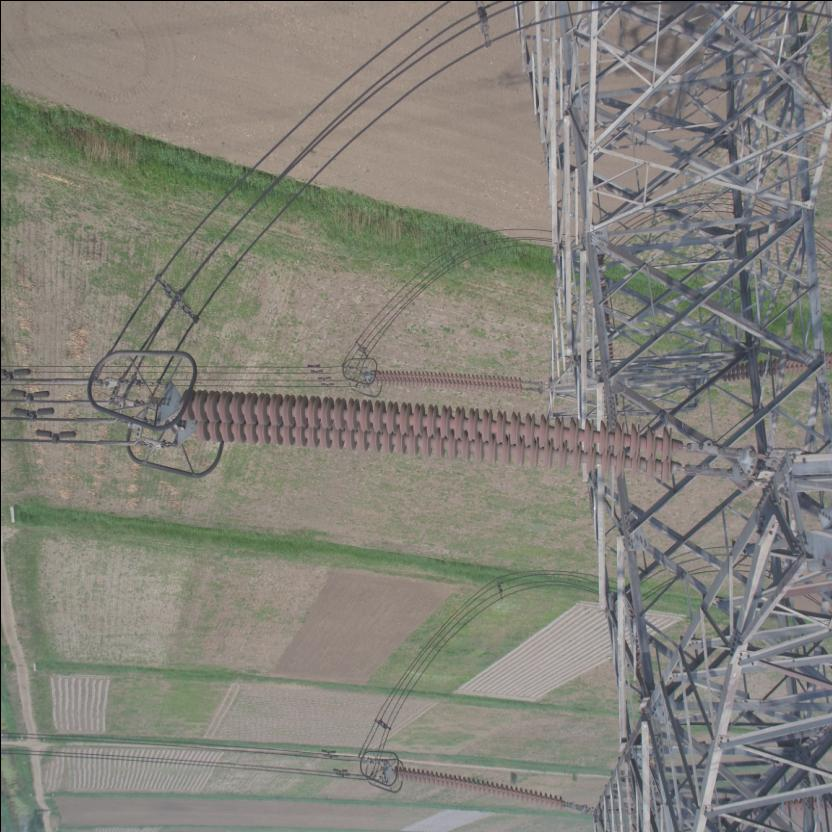insulator: (172, 388, 712, 485), (390, 762, 576, 811), (372, 366, 530, 394)
